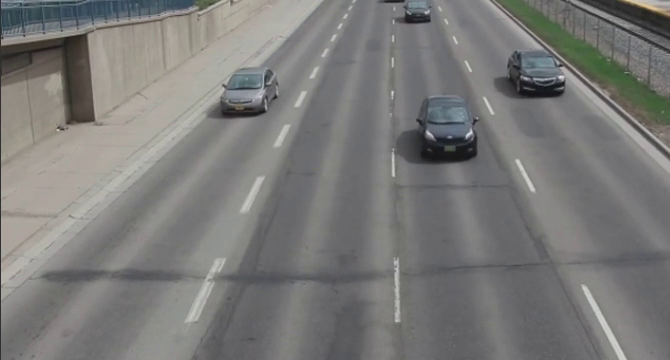car: (412, 92, 484, 163), (219, 58, 278, 115), (508, 45, 567, 102), (397, 1, 437, 26)
